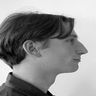ear: (20, 36, 49, 62)
